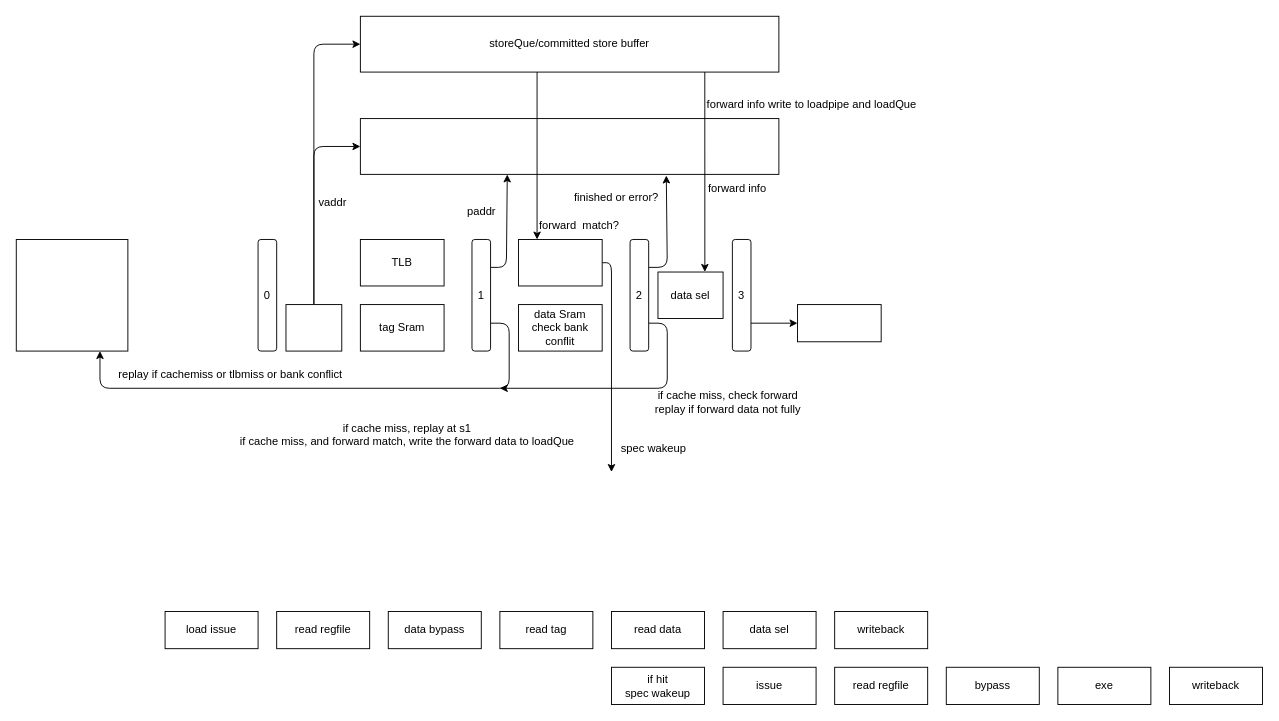
This 1279x721 diagram has some shape labels left out. The shapes that lost their labels are listed below. From the top down, each one's box as (x1, y1, x2, y2) in pixels, then its label:
(359, 118, 779, 174): loadQue
(518, 239, 602, 286): hit or miss permission check
(15, 239, 128, 351): loadIQ
(285, 304, 342, 351): calculate vaddr
(797, 304, 881, 342): regfile
